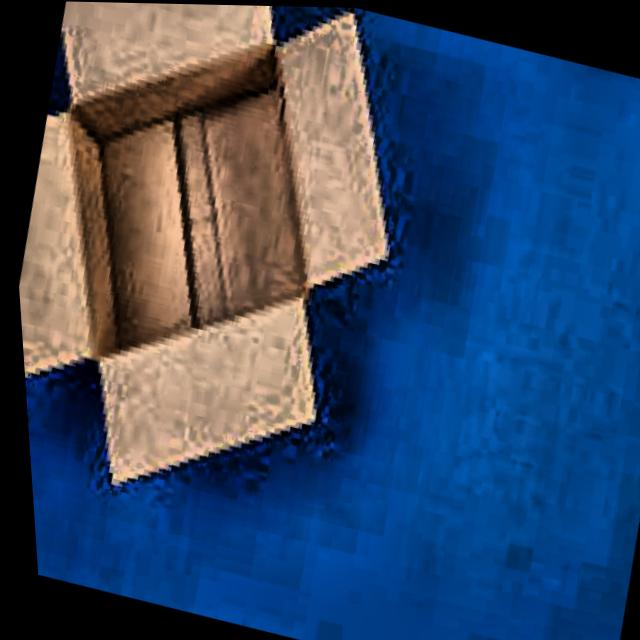Cardbox: (0, 0, 485, 560)
